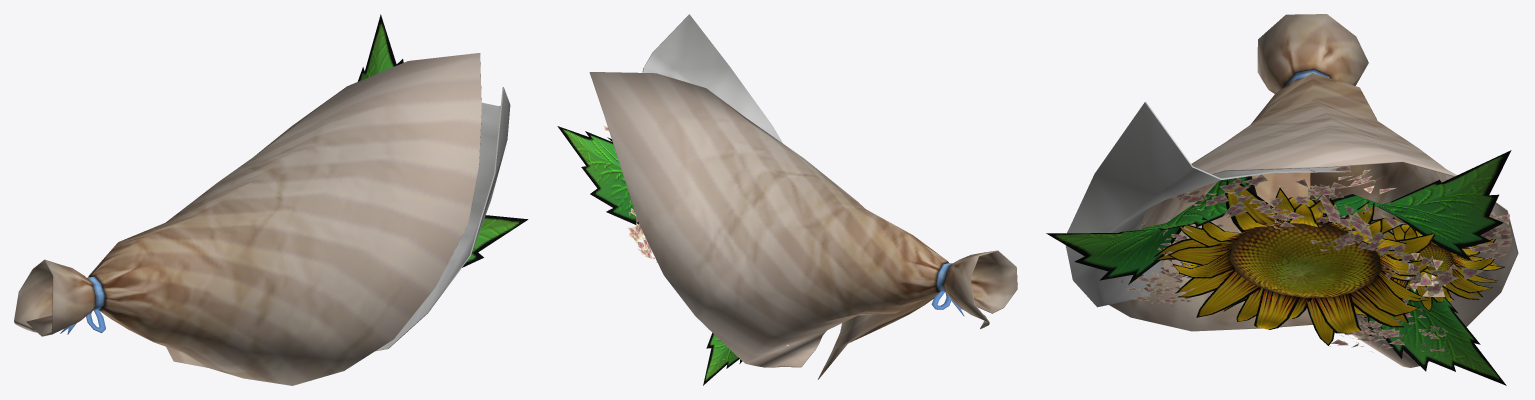
File: Weapon_HuaSu_fbx.FBX
3 views of the same model, side by side, from view 1: azimuth 30°, elevation 25°; view 2: azimuth 150°, elevation 25°; view 3: azimuth 270°, elevation 25° (orthographic). The views are drawn at different scales.
Visible parts, largest first — view 1: HuaSu; view 2: HuaSu; view 3: HuaSu.
Part boxes in pixels (left/top/right/bottom): HuaSu: left=14, top=14, right=528, bottom=385; HuaSu: left=557, top=14, right=1017, bottom=385; HuaSu: left=1046, top=14, right=1518, bottom=385.
Bounding box in the file's own units: 0.4271 × 0.2538 × 0.2839.
